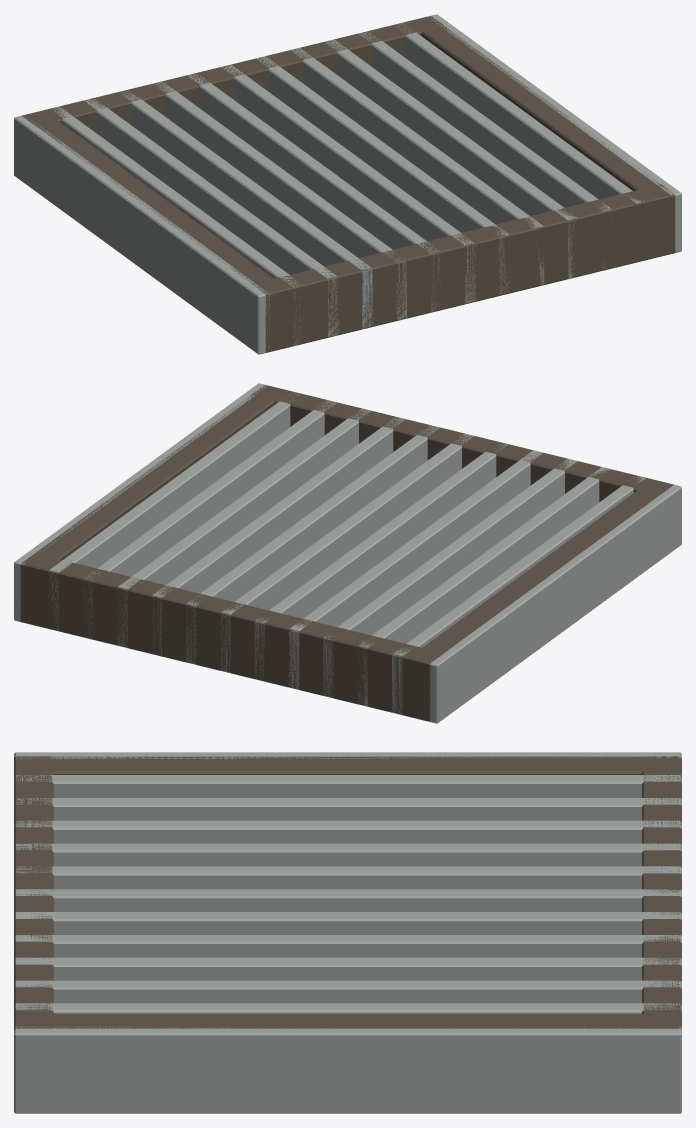
The model's file is MC_DECK_CORNER_LODs.fbx.
3 renders of one model, top to bottom at view 1: azimuth 30°, elevation 25°; view 2: azimuth 150°, elevation 25°; view 3: azimuth 270°, elevation 25°, orthographic. The views are drawn at different scales.
Visible parts, largest first — view 1: MC_DECK_CORNER_LOD0; view 2: MC_DECK_CORNER_LOD0; view 3: MC_DECK_CORNER_LOD0.
Boxes of the visible parts, x1,y1,x2,y2 form: MC_DECK_CORNER_LOD0: (14, 14, 681, 354); MC_DECK_CORNER_LOD0: (14, 383, 681, 723); MC_DECK_CORNER_LOD0: (14, 752, 681, 1113).
Size of what is drawn, in the model's own units: 1.5 by 0.2 by 1.5.
